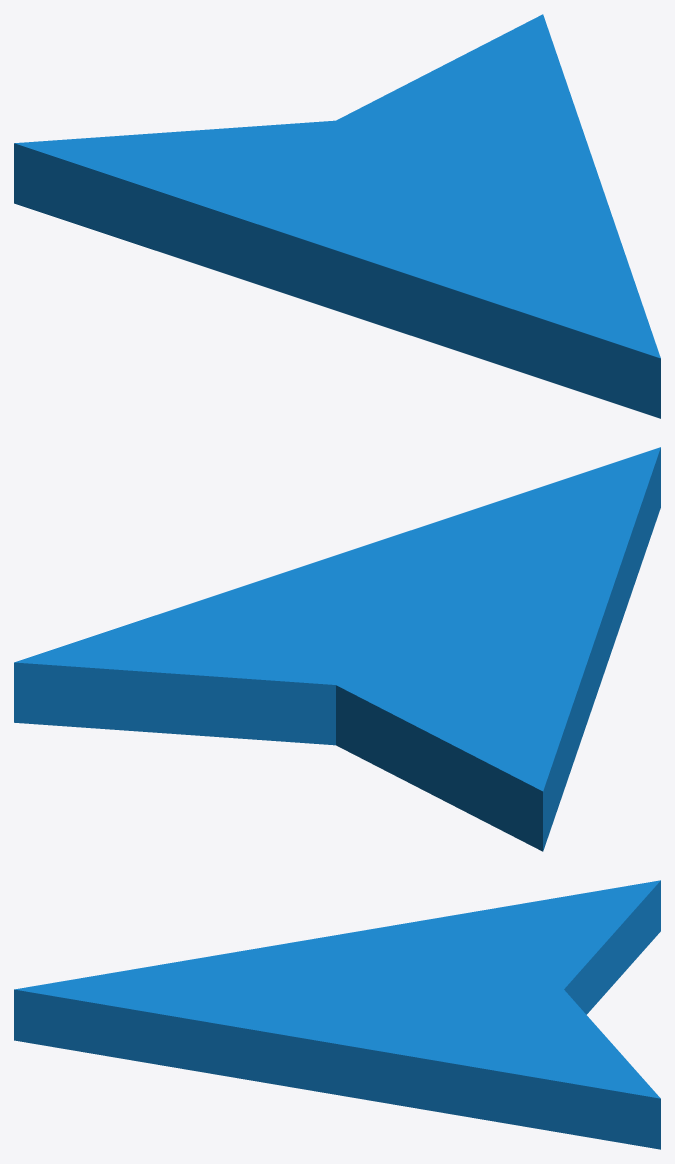
File: postitionMarker.fbx
The picture shows the model from 3 angles, top to bottom: view 1: azimuth 30°, elevation 25°; view 2: azimuth 150°, elevation 25°; view 3: azimuth 270°, elevation 25°; orthographic projection. The views are drawn at different scales.
Visible parts, largest first — view 1: Plane; view 2: Plane; view 3: Plane.
Boxes of the visible parts, bbox=[...] form: Plane: bbox=[14, 14, 660, 418]; Plane: bbox=[14, 447, 660, 851]; Plane: bbox=[14, 880, 660, 1149].
Bounding box in the file's own units: 158 × 17.16 × 197.
